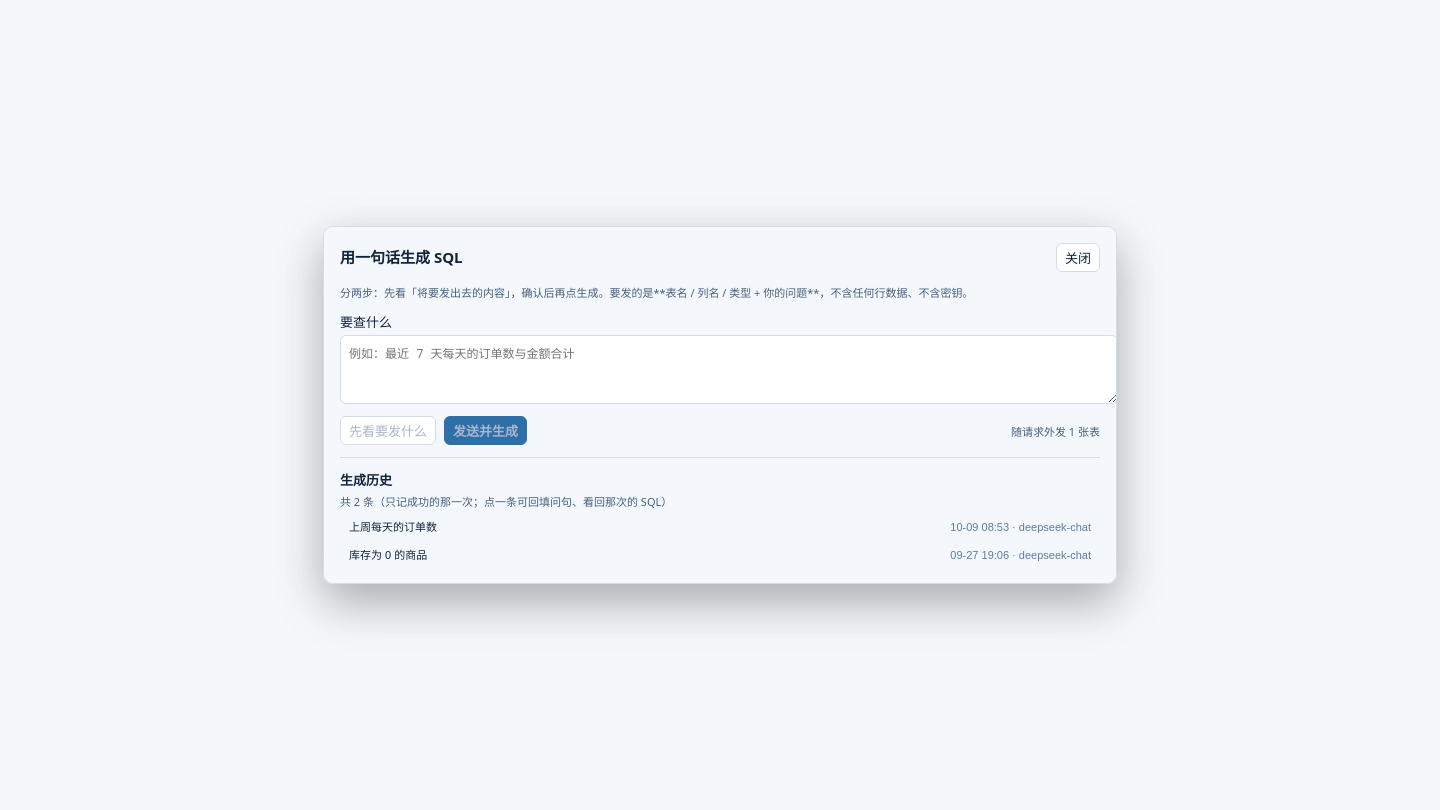
it: AgentGenerateDialog（FR-AI-02） › 历史读得出来：逐条显示问句与时间；点一条把问句填回输入框并摊出那次的 SQL
Expected: the button with test id "generate-history-row" shows "上周每天的订单数", [340,513,1100,539]
Expected: the text with test id "generate-history-count" shows "共 2 条", [340,494,672,509]
// 点第二条 ⇒ 问句回到输入框、SQL 摊在「历史里那一次」那块里
Click the button with test id "generate-history-row" that starts with "库存为 0 的商品". click: (388, 555)
box: [340,541,1100,567]
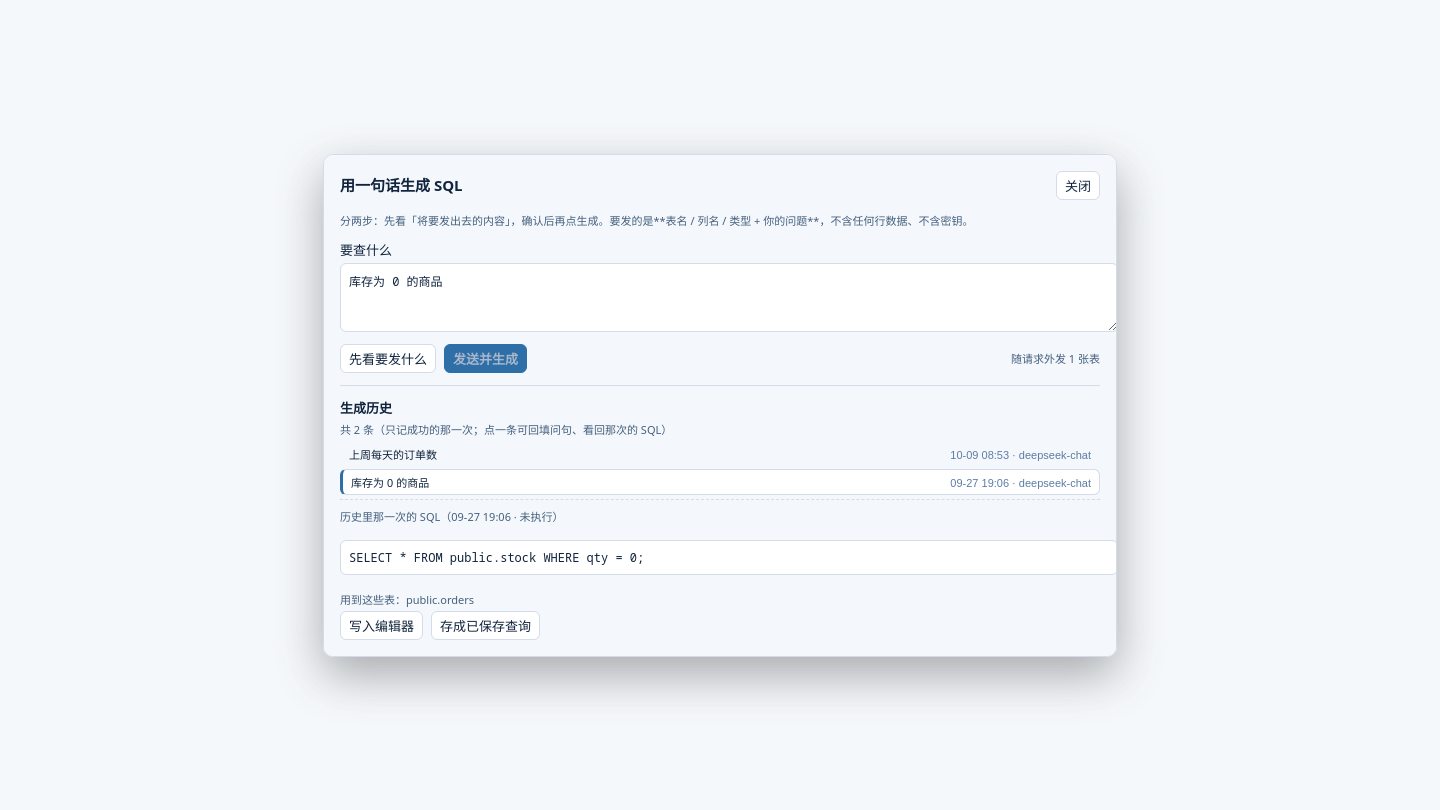
Expected: the text box with test id "generate-question" holds "库存为 0 的商品", [340,262,1117,332]
Expected: the element with test id "generate-history-reopened" shows "历史里那一次的 SQL", [340,508,564,524]
Expected: the text with test id "generate-history-sql" shows "qty = 0", [349,548,644,566]
